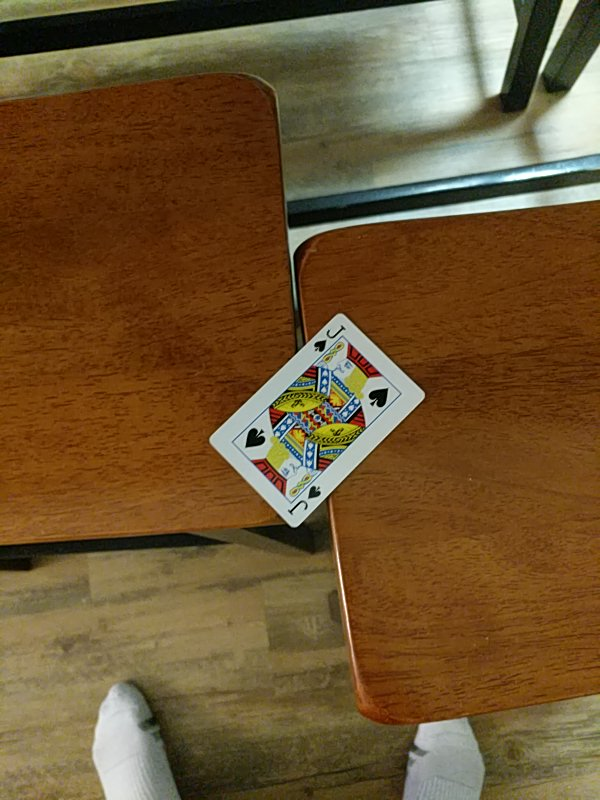Spades: (207, 310, 427, 533)
